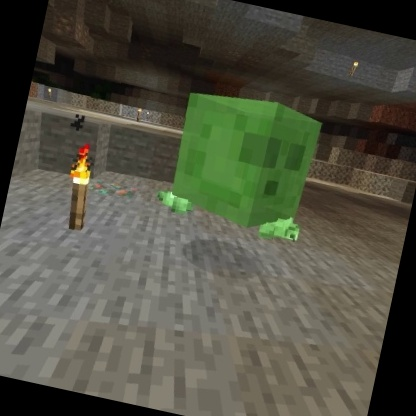slime: (161, 80, 329, 242)
